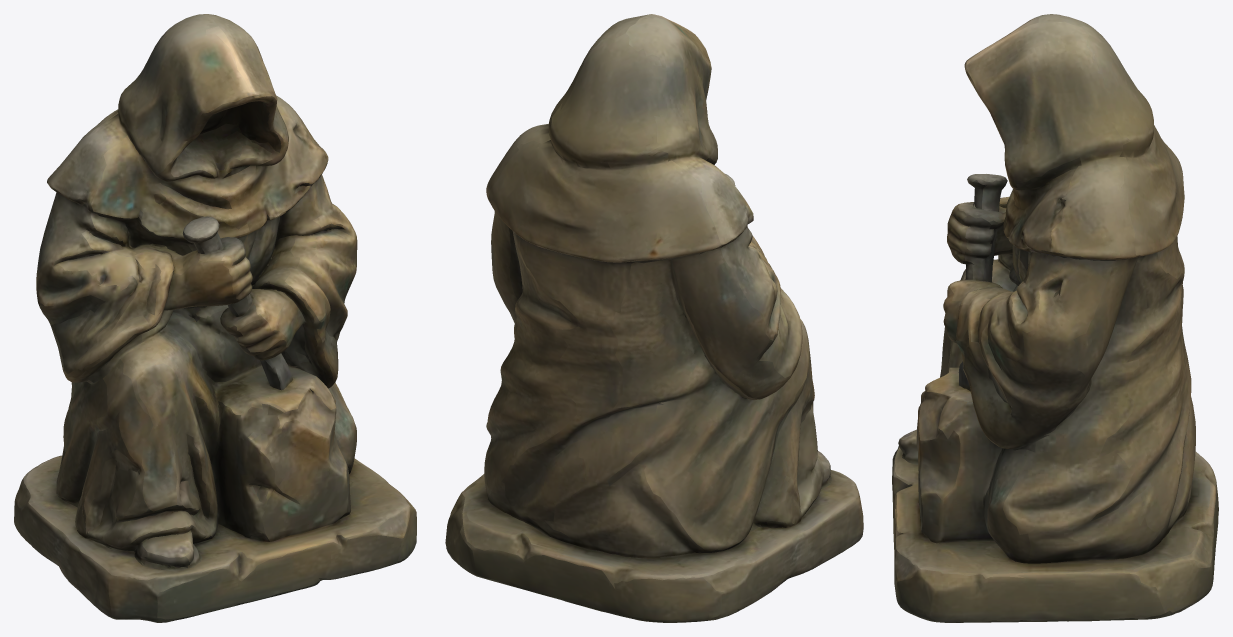
The model's file is env_statue.glb.
The picture shows the model from 3 angles, left to right: view 1: azimuth 30°, elevation 25°; view 2: azimuth 150°, elevation 25°; view 3: azimuth 270°, elevation 25°; orthographic projection. The views are drawn at different scales.
Parts seen in each view (by area): view 1: world; view 2: world; view 3: world.
Part boxes in pixels (bbox=[...]): world: bbox=[14, 14, 416, 622]; world: bbox=[445, 14, 863, 622]; world: bbox=[892, 14, 1218, 622].
Bounding box in the file's own units: 0.1562 × 0.25 × 0.1395.
Materials: 1 (1 with a texture image).
